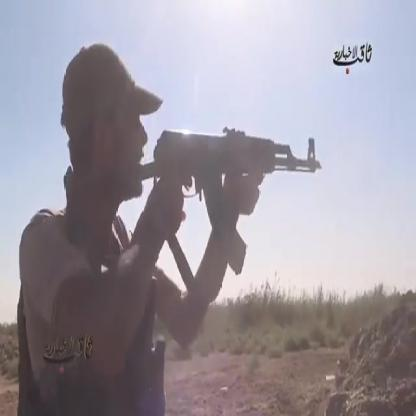Gun: (124, 110, 324, 282)
